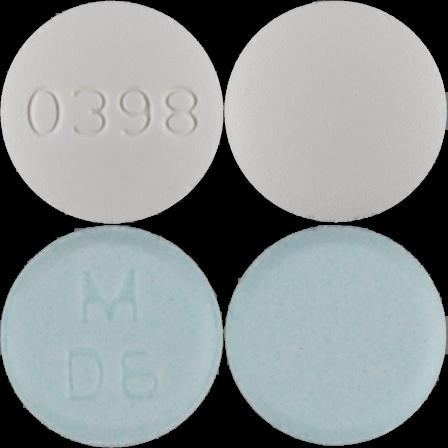68788-9290: (0, 0, 224, 224)
